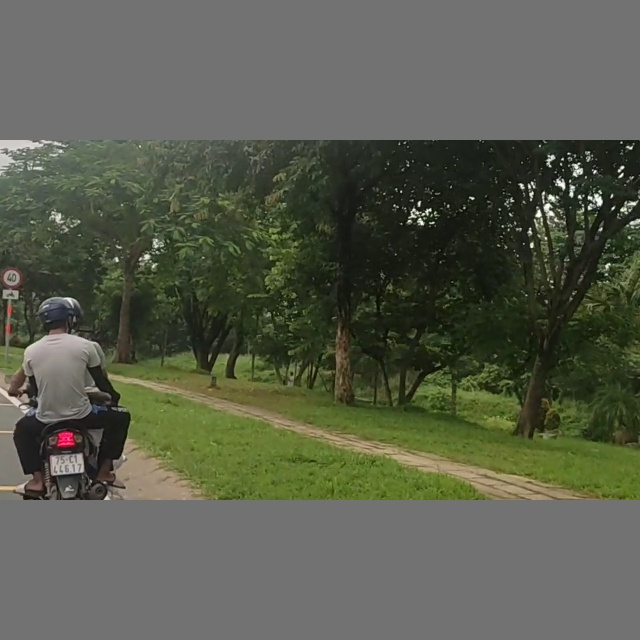P.127*40: (3, 267, 25, 287)
